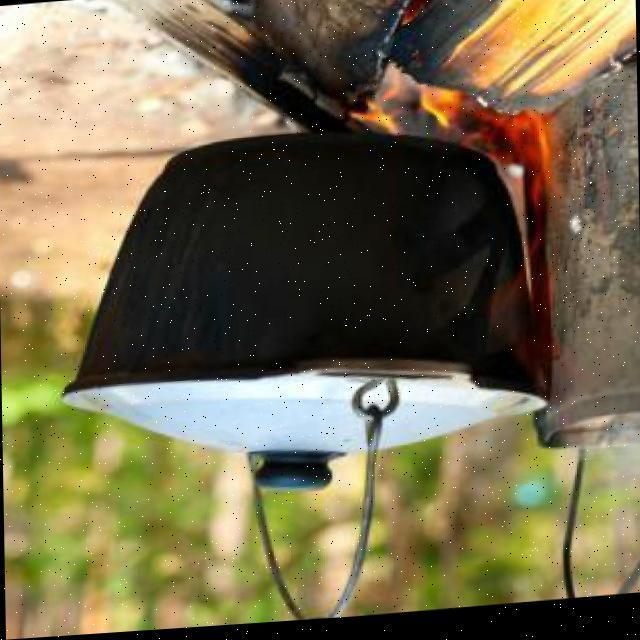fire: (356, 72, 584, 220)
